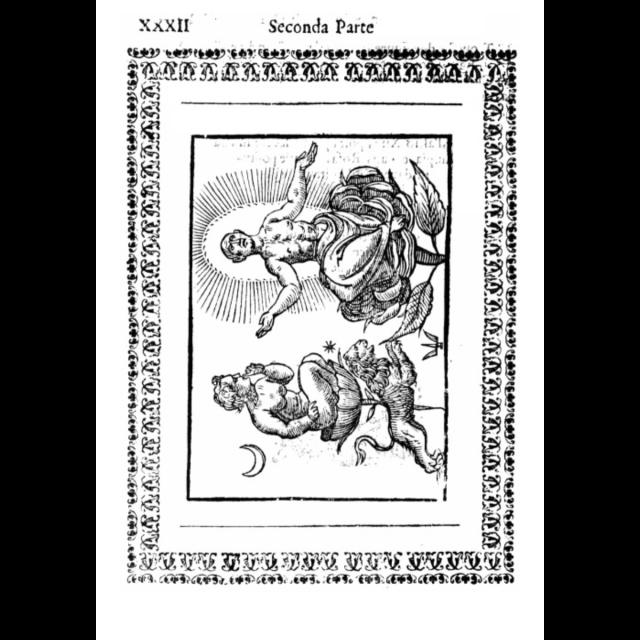buddha-sitting: (205, 170, 418, 311)
